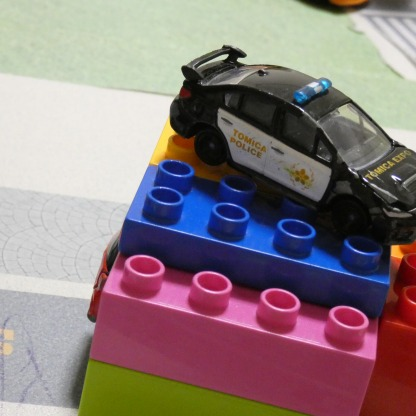car: (173, 40, 416, 246)
